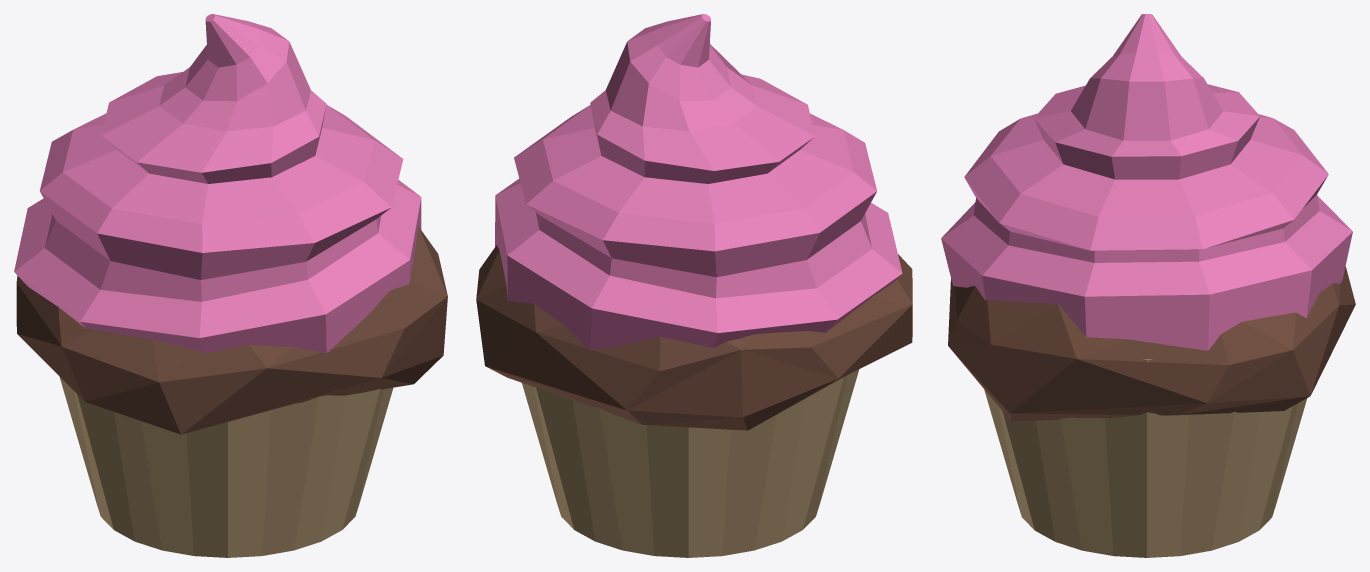
The model's file is Cupcake.glb.
The picture shows the model from 3 angles, left to right: view 1: azimuth 30°, elevation 25°; view 2: azimuth 150°, elevation 25°; view 3: azimuth 270°, elevation 25°; orthographic projection.
Visible parts, largest first — view 1: Cupcake; view 2: Cupcake; view 3: Cupcake.
Part boxes in pixels (x1=…): Cupcake: x1=14, y1=14, x2=447, y2=557; Cupcake: x1=476, y1=14, x2=912, y2=557; Cupcake: x1=941, y1=14, x2=1355, y2=557.
Bounding box in the file's own units: 0.7342 × 0.9316 × 0.7258.
